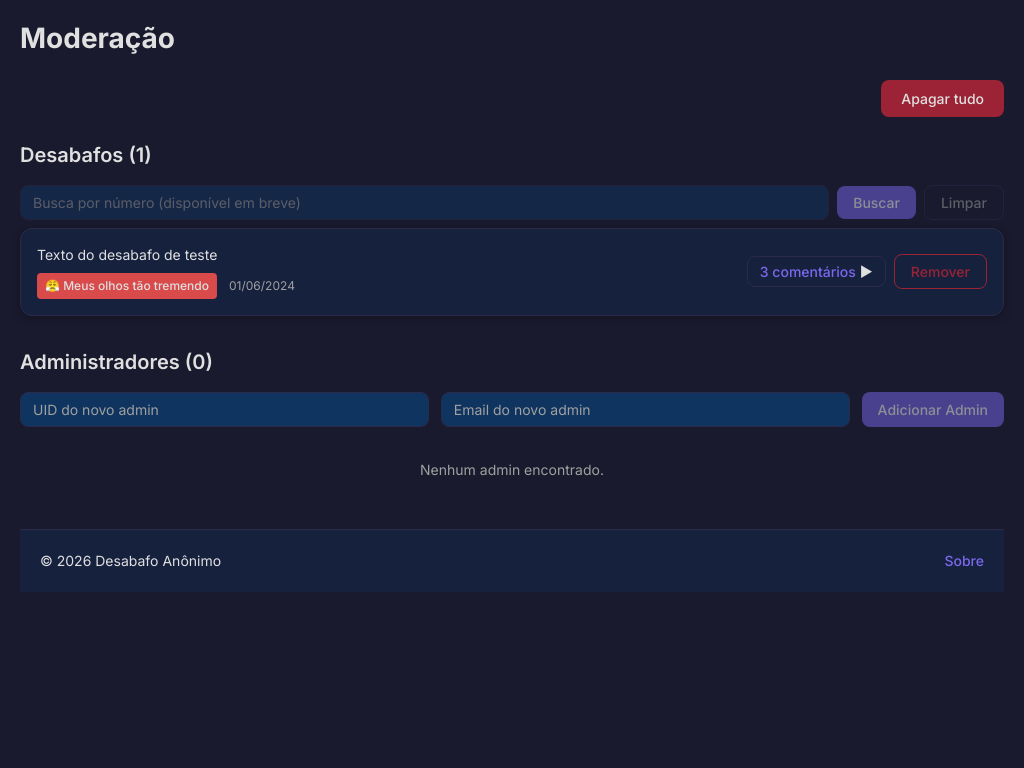
Test: PaginaModeracao - Carregamento lazy de comentários › Req 2.5 - Erro mantém toggle ativo para retry › deve exibir mensagem de erro dentro da linha se a busca falhar
The width and height of the screenshot is (1024, 768).
Check: the text "3 comentários" is shown, box [760,264,856,280]
Click the button "3 comentários ▶".
click(816, 272)  # box [747,256,886,288]
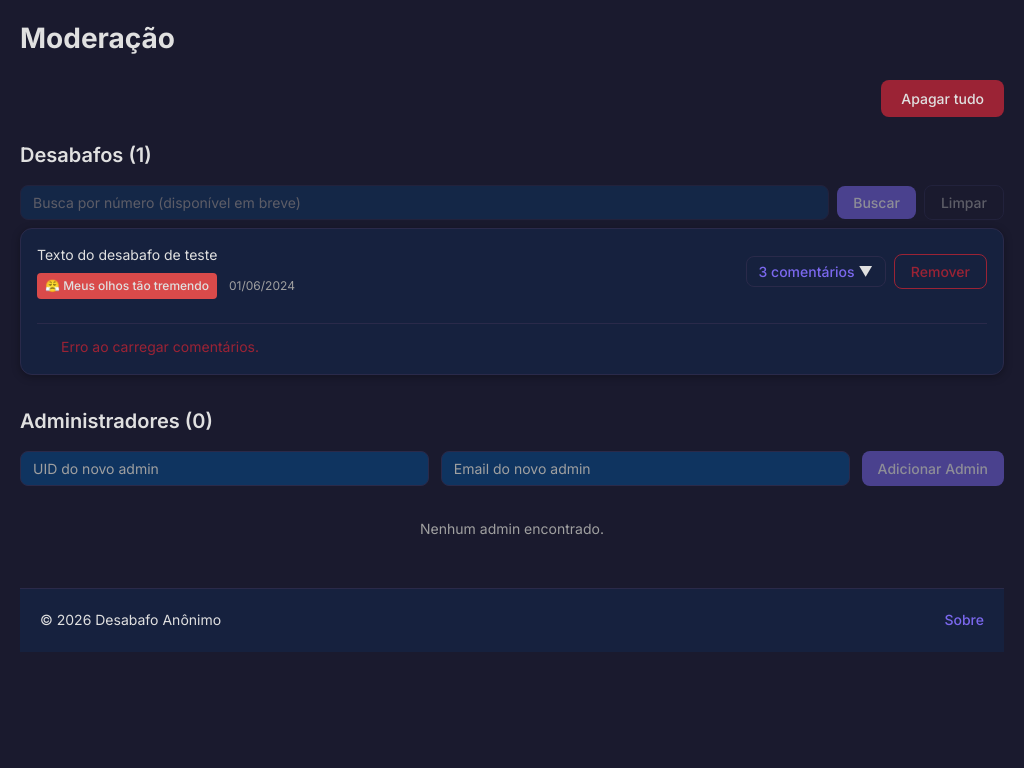
Check: the text "Erro ao carregar comentários." is shown, box [61,338,259,354]
